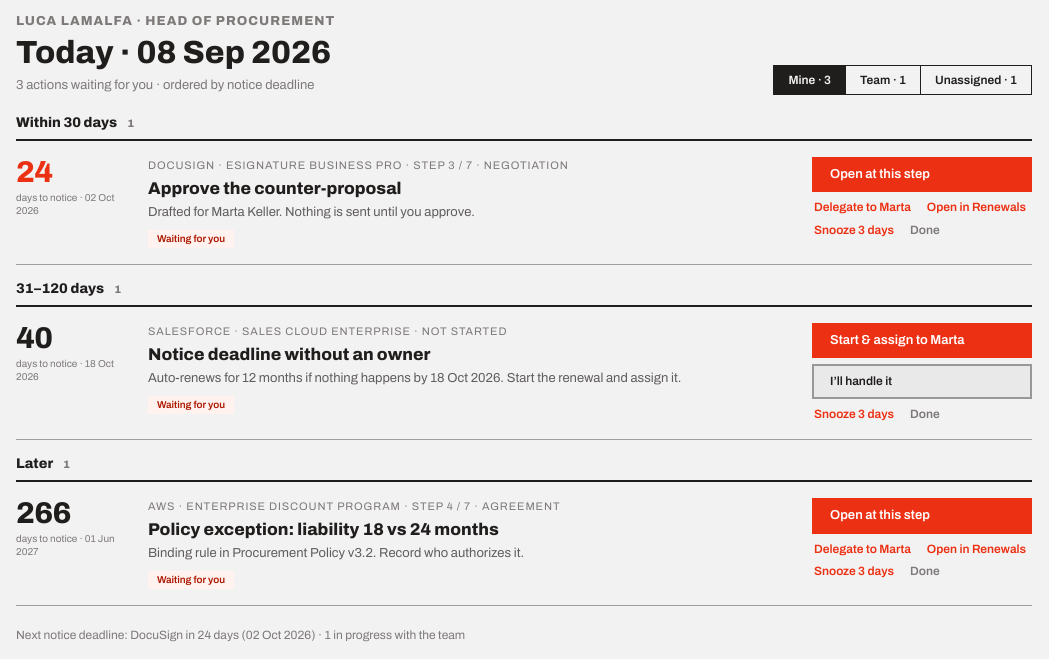
Test: Today › delegating an approval hands it to the other person
Click the button "Delegate to Marta" in the row of "days to notice · 02 Oct 2026" at (862, 208), box [812,198,913,217]
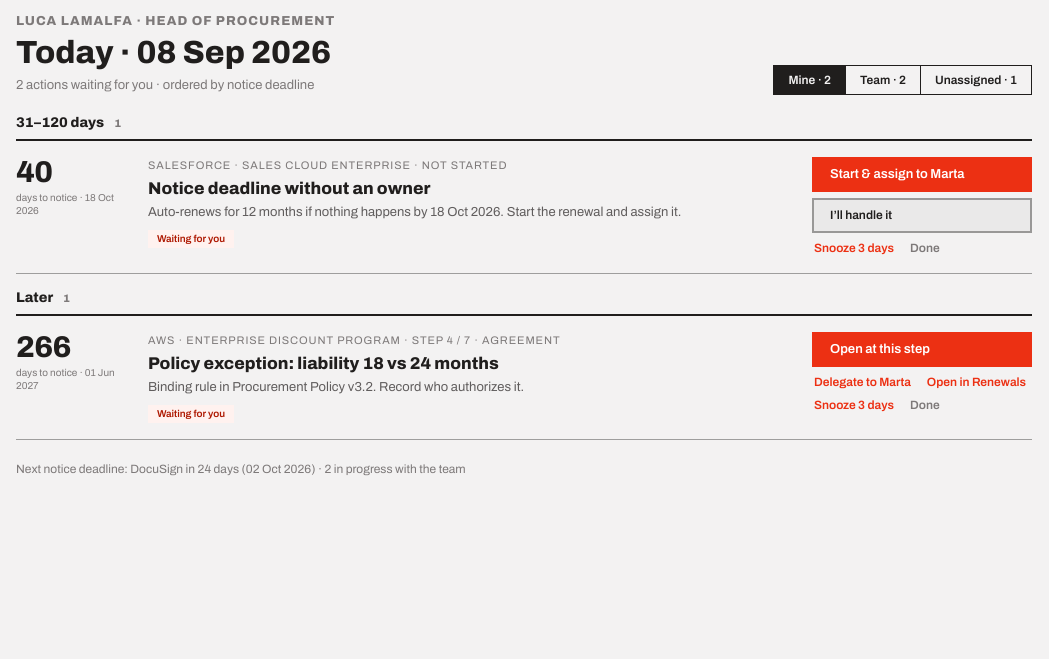
Expected: the button "Mine · 2" is shown, [774,66,846,94]
